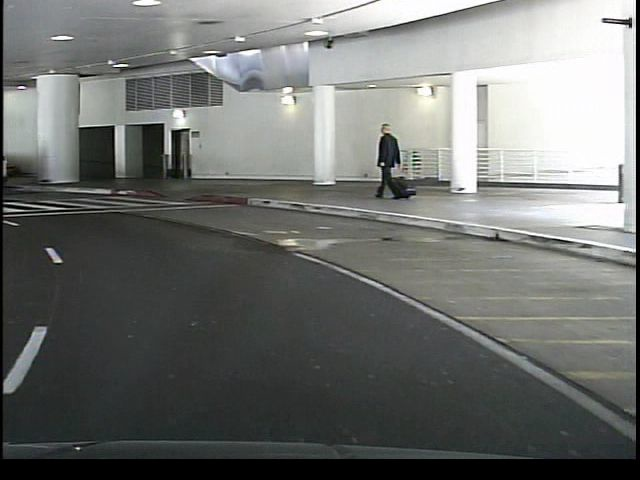person: (369, 121, 406, 199)
